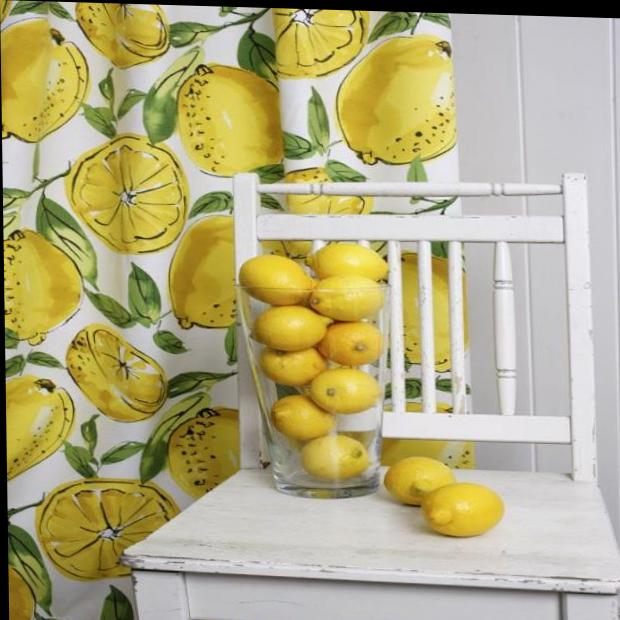Lemon: (420, 481, 510, 541), (262, 394, 341, 451), (235, 250, 316, 300), (384, 453, 458, 507), (295, 431, 373, 479), (309, 277, 389, 323), (307, 368, 382, 416), (247, 307, 330, 350), (323, 321, 386, 375), (260, 343, 322, 392)
